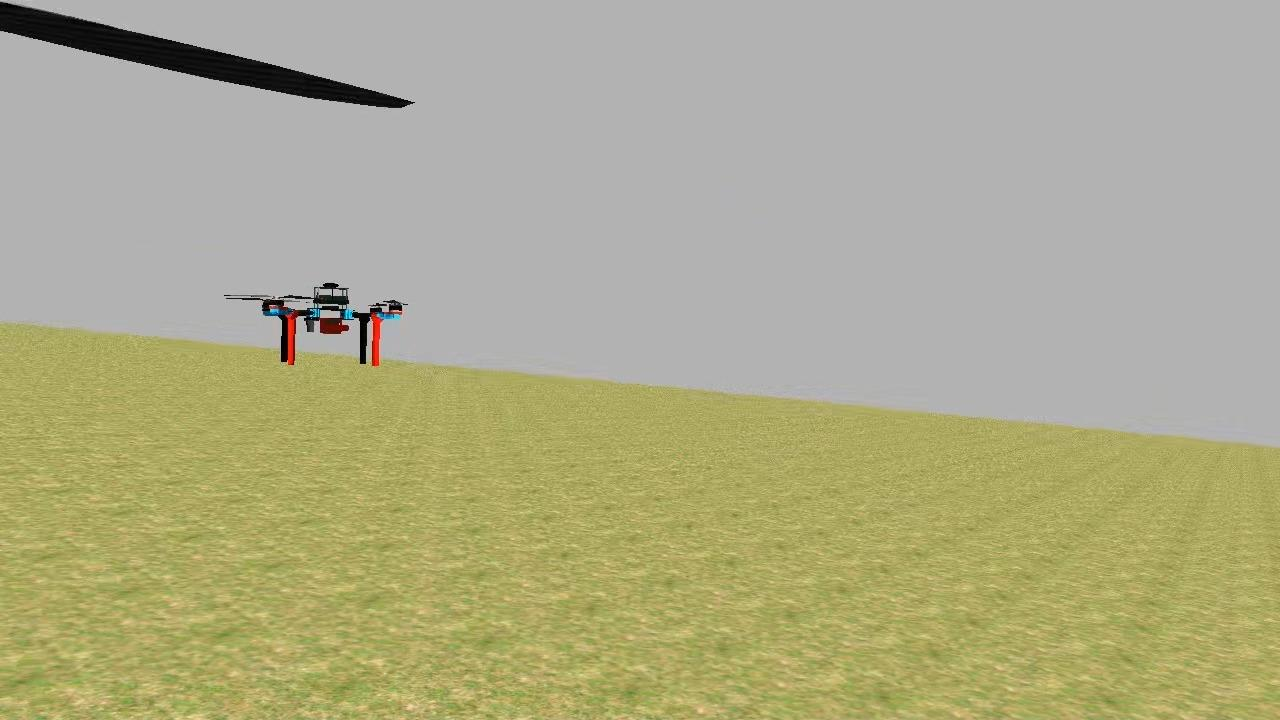UAV: (256, 278, 410, 376)
